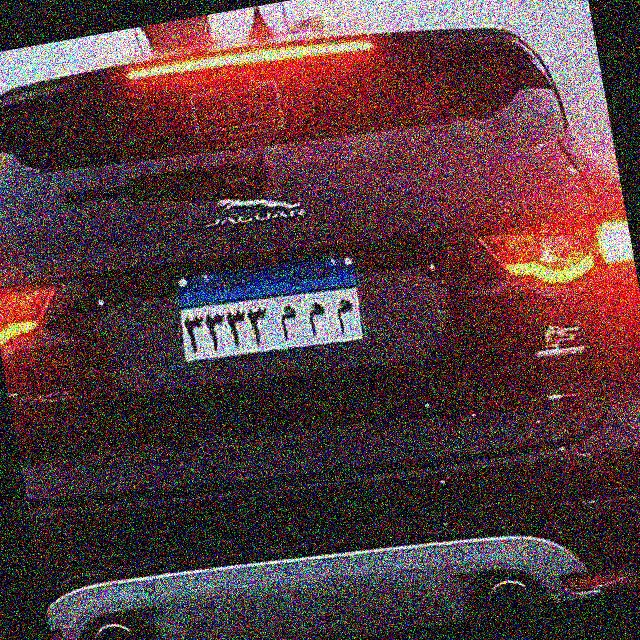License Plate: (165, 239, 374, 378)
